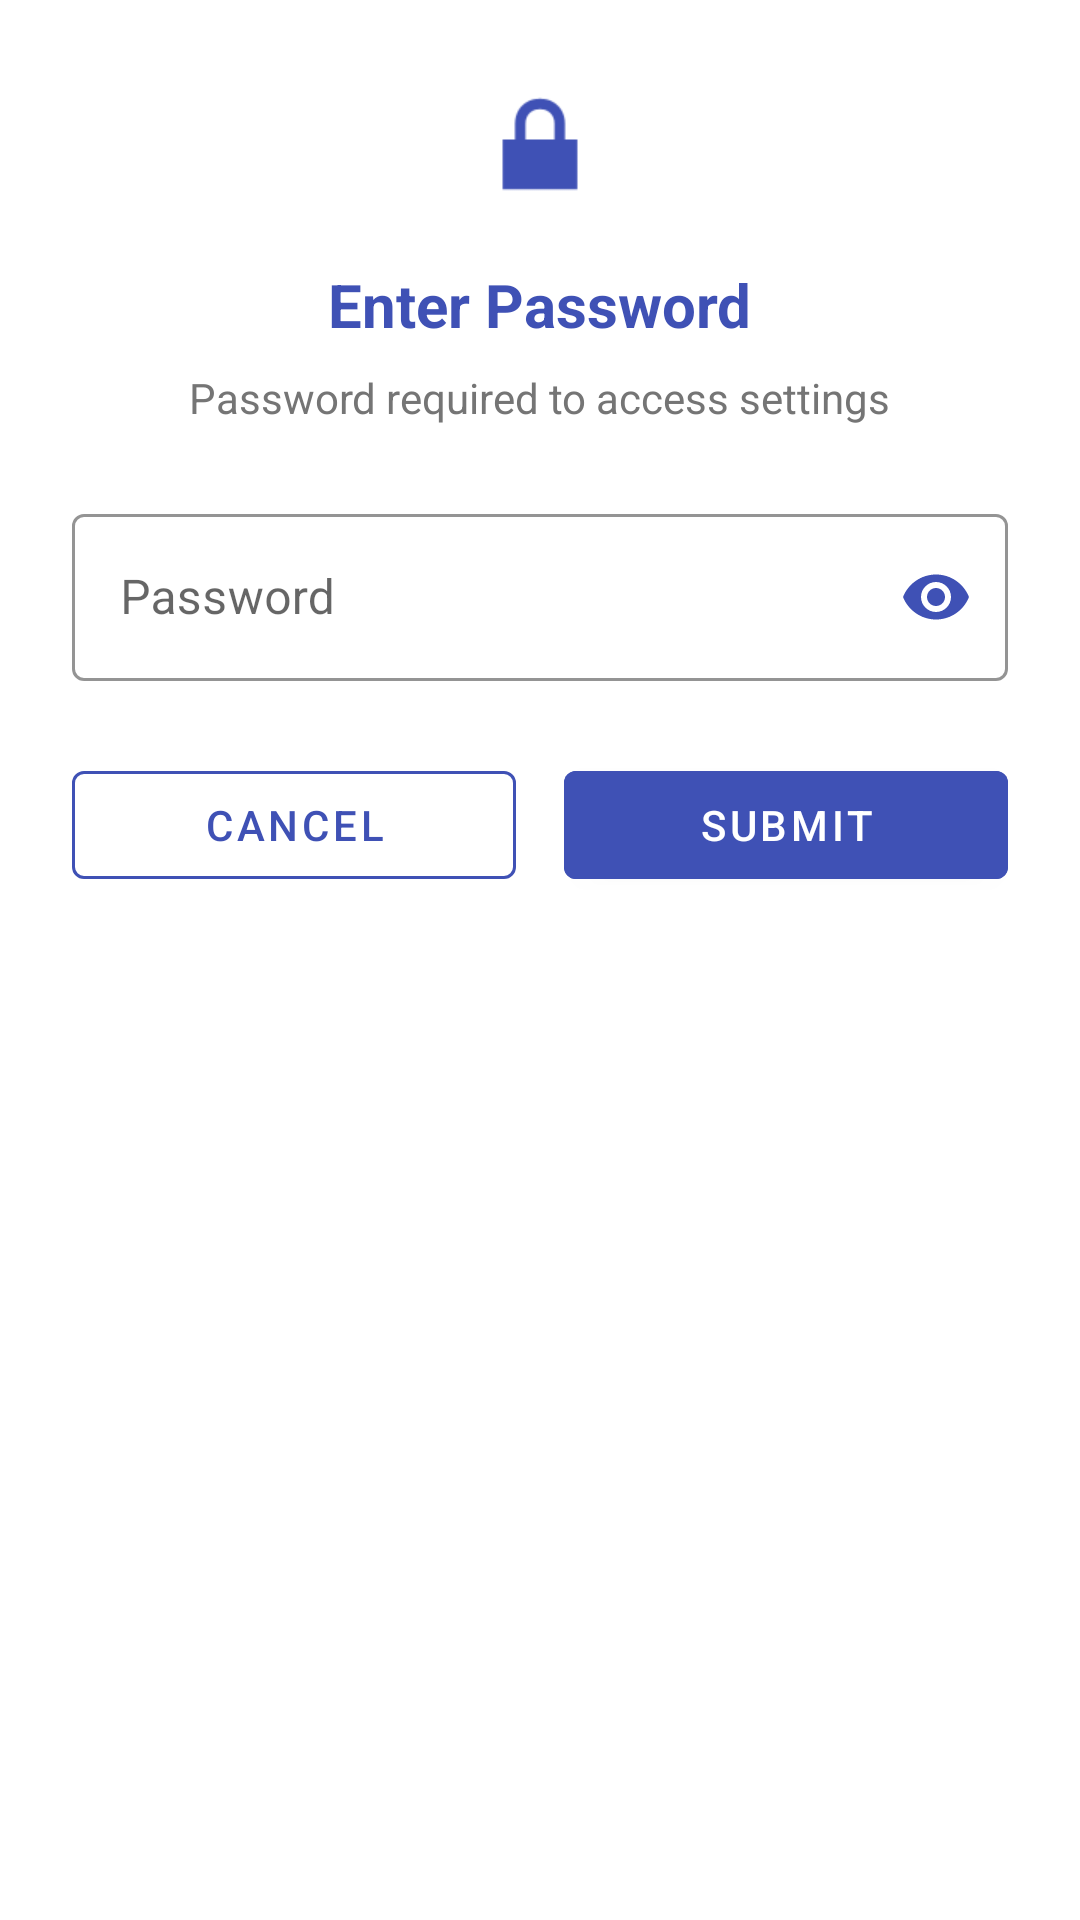

Icon click points for this 1080w x 1920h phone screenshot, format (x=x, y=y):
Lock Icon: (x=540, y=144)
